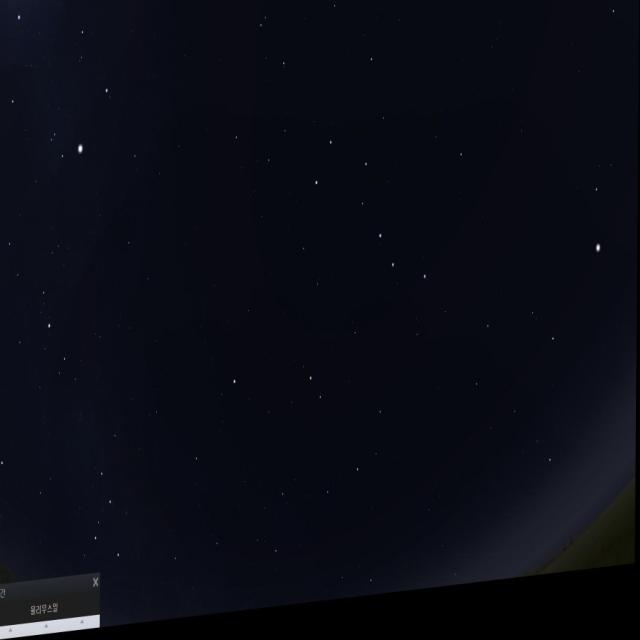cassiopeia: (88, 410, 141, 588)
ursa_major: (311, 131, 431, 319)
